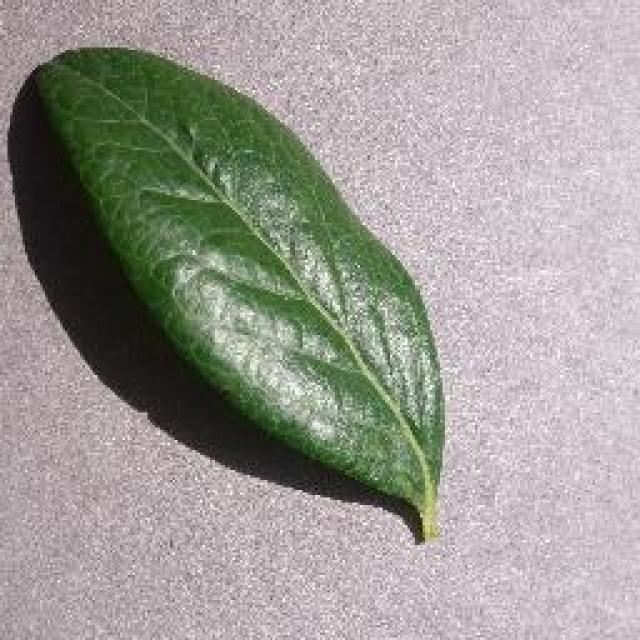Blu_healthy: (114, 82, 390, 434)
